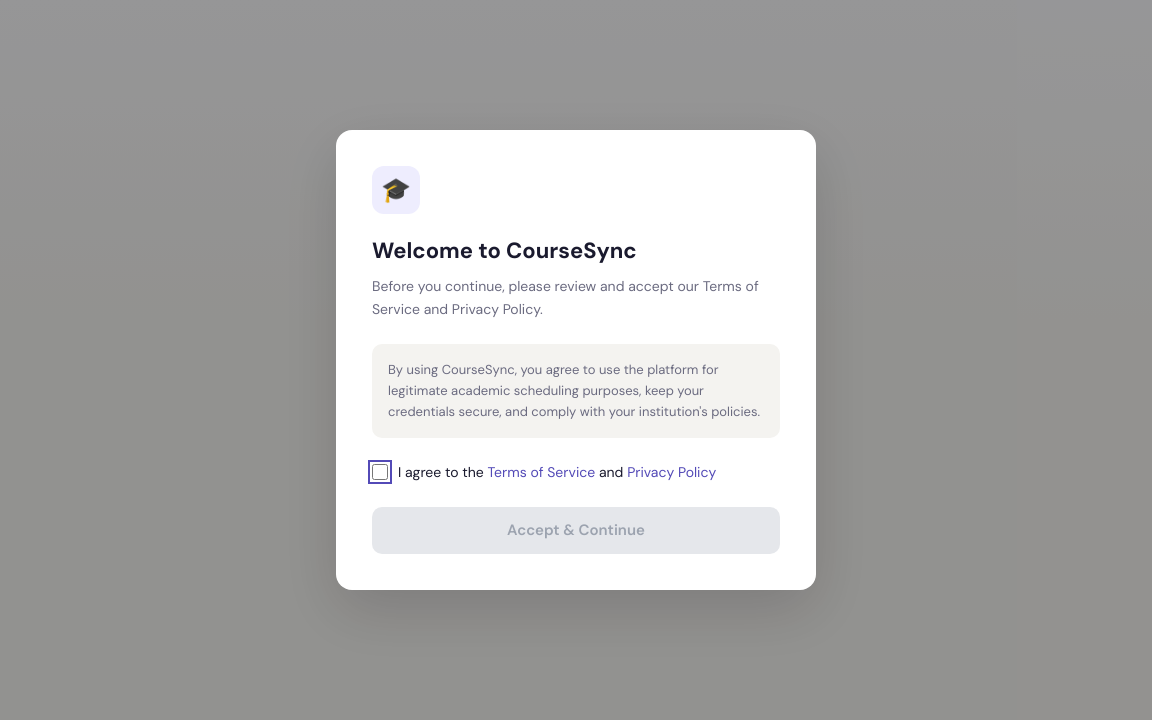
Scenario: TermsModal › disables the accept button until the checkbox is checked
Expected: the button "Accept & Continue" is disabled, [372,507,780,554]
Click the checkbox at (380, 472), box [372,464,388,480]
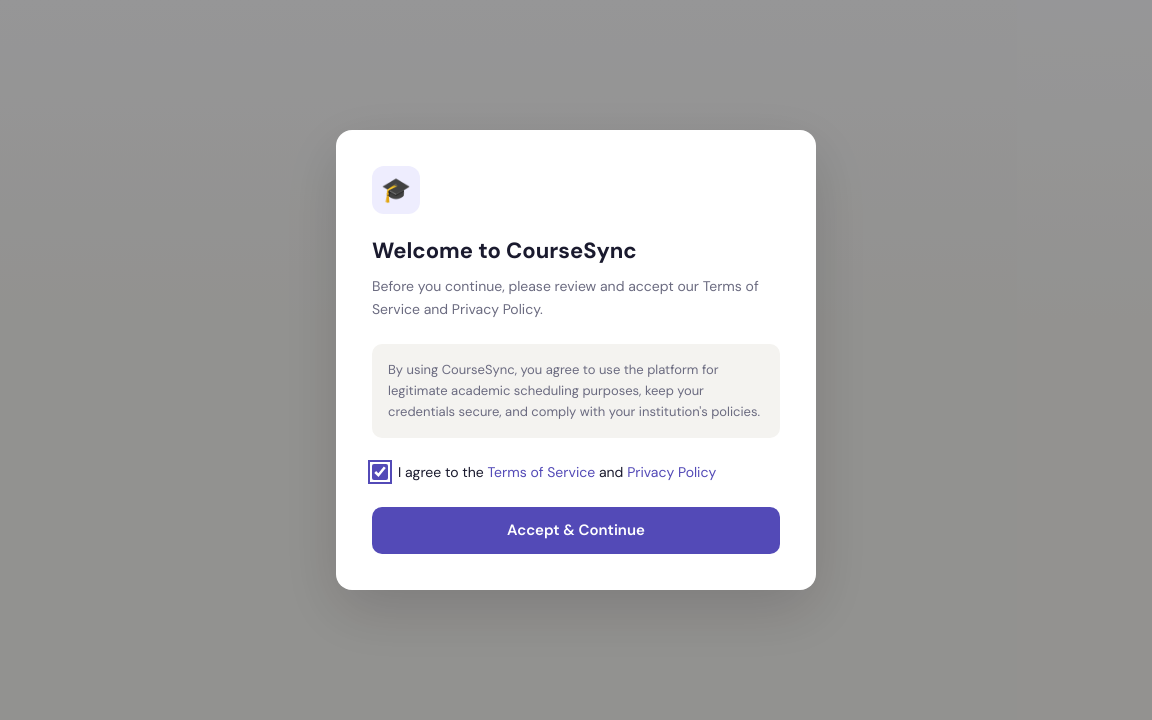
Now the button "Accept & Continue" is enabled, box [372,507,780,554]
